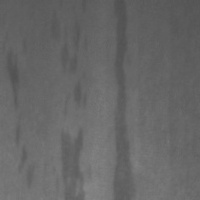inclusion: (100, 1, 142, 199), (4, 34, 41, 186), (48, 1, 96, 73), (59, 125, 87, 200), (64, 76, 89, 118)
